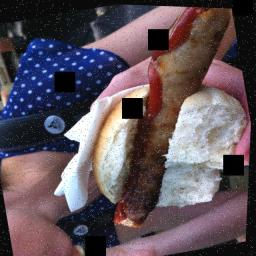hotdog: (52, 1, 256, 243)
